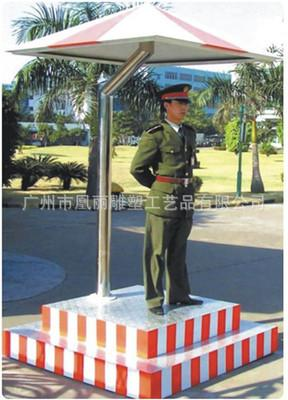up: (130, 81, 209, 314)
